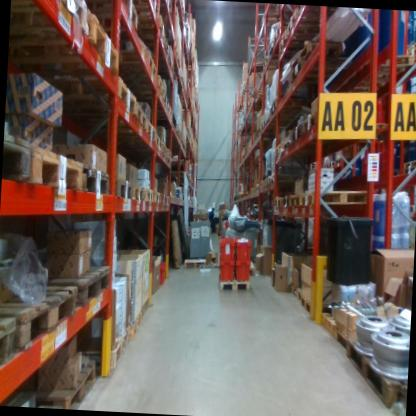pallet: (16, 1, 118, 89), (15, 243, 117, 327), (0, 275, 83, 362), (341, 328, 409, 413), (50, 59, 138, 116), (21, 136, 90, 206), (22, 355, 101, 405), (345, 41, 416, 94), (298, 176, 380, 216), (10, 0, 88, 37), (79, 0, 145, 42), (286, 49, 348, 93), (0, 117, 33, 198), (72, 142, 114, 204), (286, 38, 349, 78), (281, 7, 334, 44), (274, 26, 322, 57), (109, 52, 159, 81), (0, 308, 23, 371), (255, 113, 297, 145), (270, 91, 310, 123), (124, 15, 174, 40), (298, 290, 344, 314), (108, 164, 133, 207), (213, 272, 254, 298), (131, 71, 163, 103), (249, 76, 279, 103), (303, 106, 328, 138), (127, 170, 147, 208), (273, 128, 294, 160), (328, 322, 353, 347), (268, 170, 303, 187), (151, 35, 177, 56), (184, 254, 213, 272), (132, 99, 148, 131), (157, 138, 174, 166), (142, 116, 157, 146), (402, 32, 416, 62), (154, 54, 176, 72), (292, 120, 305, 147), (249, 99, 270, 115), (140, 184, 155, 205), (289, 186, 300, 213), (334, 155, 355, 169), (285, 278, 297, 302), (403, 39, 416, 61), (271, 29, 282, 54), (152, 128, 162, 153), (149, 184, 160, 206), (158, 84, 170, 104), (400, 164, 416, 179), (245, 255, 255, 277), (262, 41, 272, 63), (399, 154, 416, 165), (283, 194, 291, 214), (272, 196, 283, 210), (320, 160, 330, 174), (294, 283, 301, 302), (166, 101, 173, 118), (258, 176, 263, 193), (263, 176, 268, 191), (329, 159, 335, 170), (256, 181, 260, 195), (253, 180, 258, 186)
small_load_carrier: (216, 236, 236, 264), (234, 233, 252, 260), (234, 257, 251, 283), (218, 259, 236, 282), (156, 261, 168, 285)
